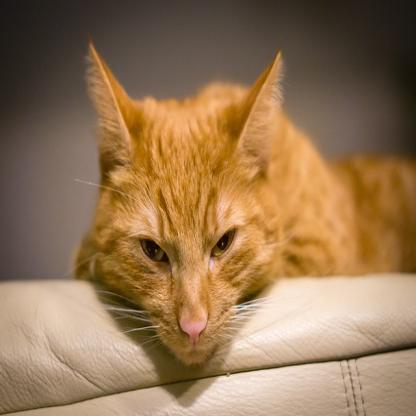cat: (75, 40, 416, 370)
